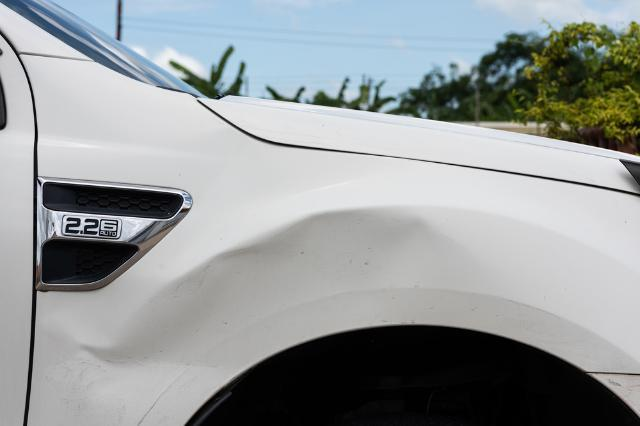dent: (79, 209, 468, 419)
